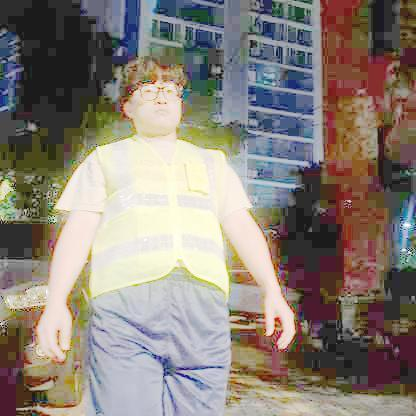no-helmet: (119, 49, 193, 108)
vest: (89, 134, 233, 304)
